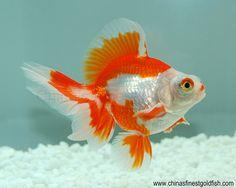goldfish: (47, 46, 222, 165)
